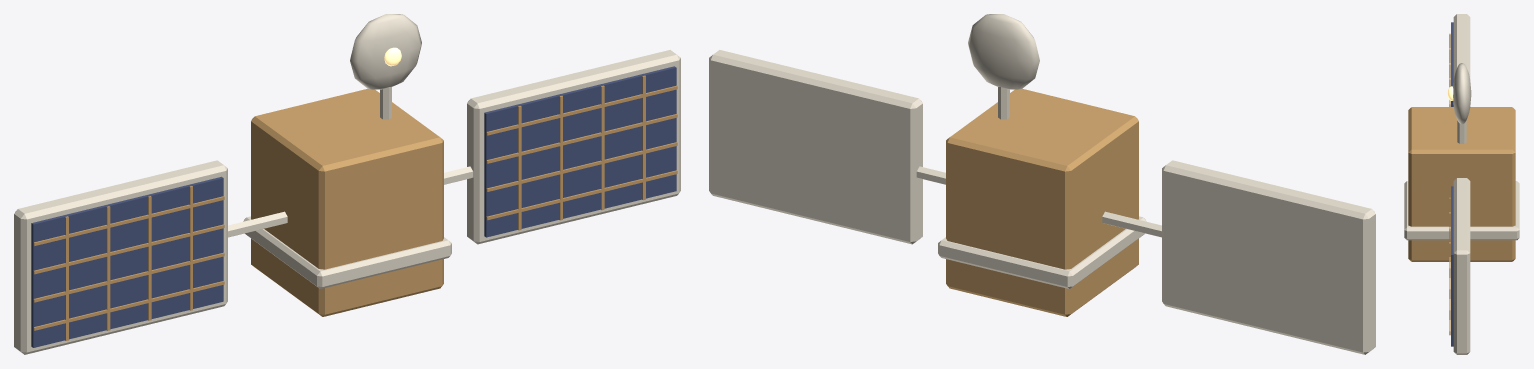
Rendered from orb4_satellite_landmark_unit.glb.
3 views of the same model, side by side, from view 1: azimuth 30°, elevation 25°; view 2: azimuth 150°, elevation 25°; view 3: azimuth 270°, elevation 25° (orthographic). The views are drawn at different scales.
Visible parts, largest first — view 1: orb4_satellite_landmark_unit__orb3-brushed-brass, orb4_satellite_landmark_unit__orb3-indigo-glaze, orb4_satellite_landmark_unit__orb3-ivory-ceramic; view 2: orb4_satellite_landmark_unit__orb3-ivory-ceramic, orb4_satellite_landmark_unit__orb3-brushed-brass; view 3: orb4_satellite_landmark_unit__orb3-brushed-brass, orb4_satellite_landmark_unit__orb3-ivory-ceramic, orb4_satellite_landmark_unit__orb3-indigo-glaze.
Part boxes in pixels (<box>): orb4_satellite_landmark_unit__orb3-brushed-brass: <box>33,75,677,340</box>; orb4_satellite_landmark_unit__orb3-indigo-glaze: <box>31,66,676,347</box>; orb4_satellite_landmark_unit__orb3-ivory-ceramic: <box>14,14,680,354</box>; orb4_satellite_landmark_unit__orb3-ivory-ceramic: <box>709,14,1375,354</box>; orb4_satellite_landmark_unit__orb3-brushed-brass: <box>946,89,1138,316</box>; orb4_satellite_landmark_unit__orb3-brushed-brass: <box>1408,33,1515,335</box>; orb4_satellite_landmark_unit__orb3-ivory-ceramic: <box>1404,14,1519,354</box>; orb4_satellite_landmark_unit__orb3-indigo-glaze: <box>1451,22,1453,346</box>.
Bounding box in the file's own units: 13.7 × 5.05 × 2.8.
